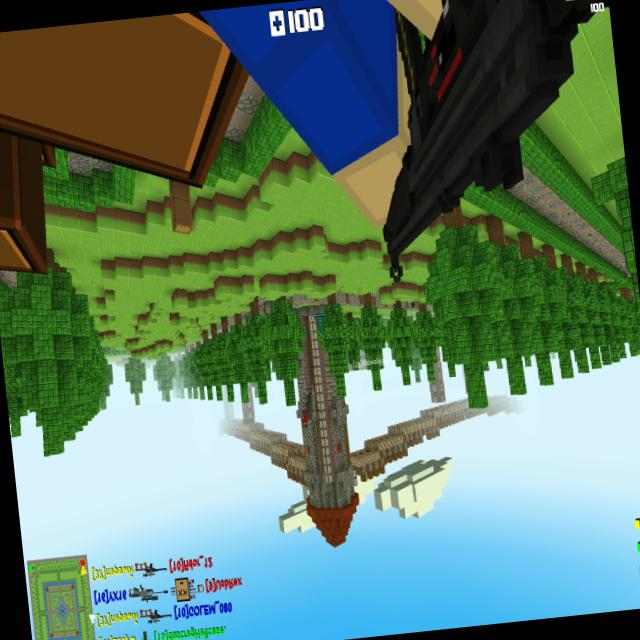enemy: (302, 410, 308, 427)
